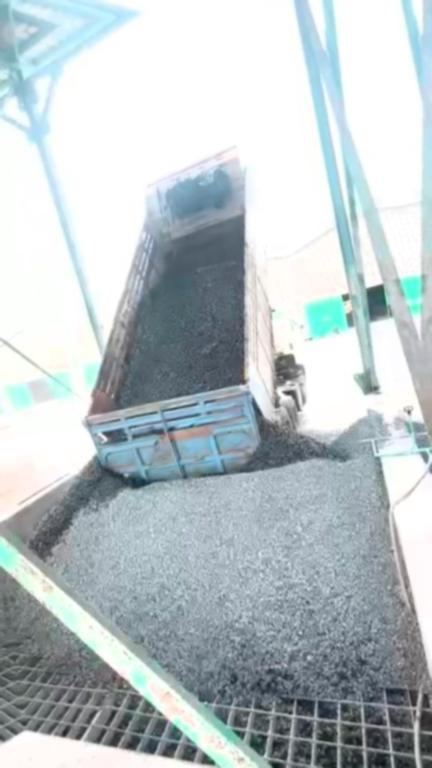gravel: (31, 408, 422, 702), (120, 220, 245, 405), (3, 576, 112, 684)
sand: (0, 451, 67, 520)
